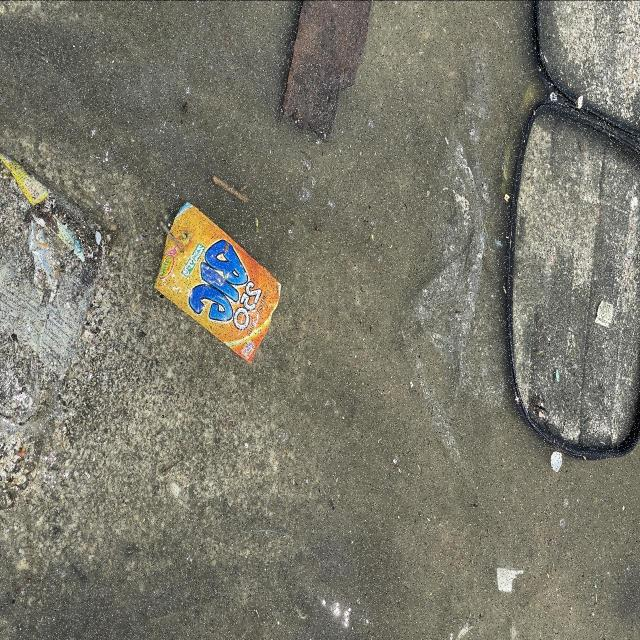plastic_waste: (157, 199, 283, 362)
